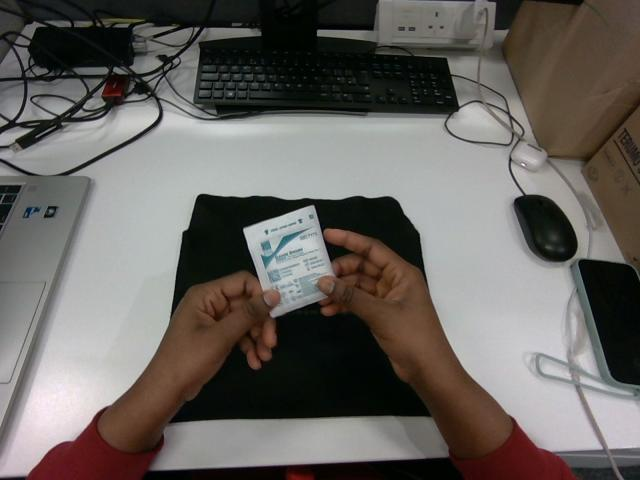gauze: (243, 205, 333, 317)
